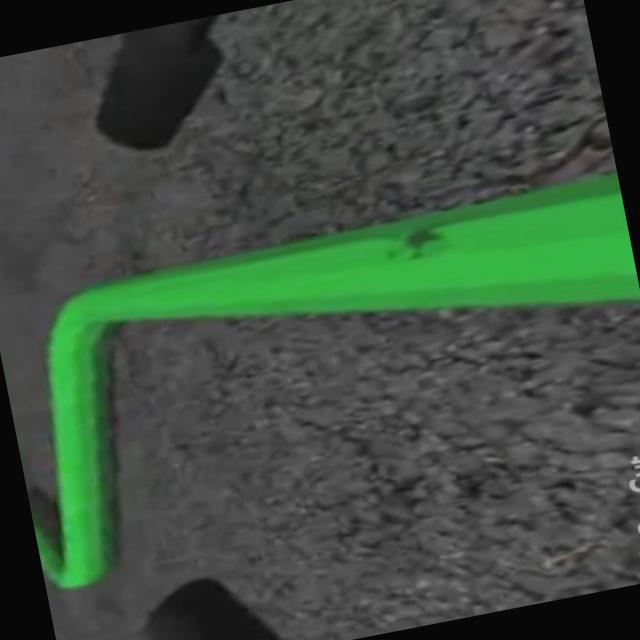gas: (19, 168, 640, 419), (12, 274, 162, 529)
